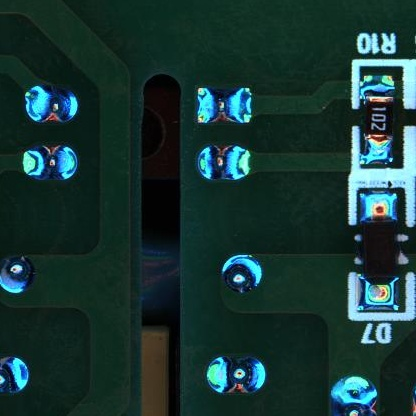spot: (206, 355, 267, 395), (197, 85, 253, 124), (328, 375, 381, 416), (23, 144, 79, 179), (26, 86, 79, 122), (220, 254, 262, 296), (197, 147, 252, 179), (1, 251, 35, 293), (1, 355, 28, 394)
